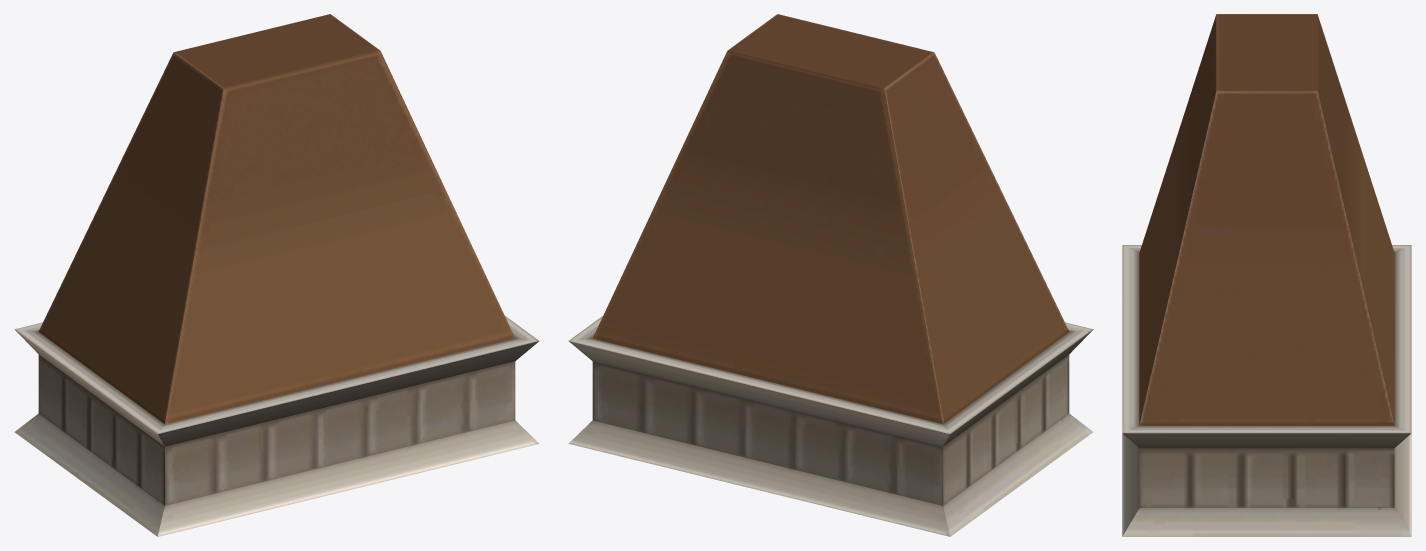
The model's file is furni_0200092.FBX.
The picture shows the model from 3 angles, left to right: view 1: azimuth 30°, elevation 25°; view 2: azimuth 150°, elevation 25°; view 3: azimuth 270°, elevation 25°; orthographic projection.
Visible parts, largest first — view 1: furni_0200092; view 2: furni_0200092; view 3: furni_0200092.
Boxes of the visible parts, x1,y1,x2,y2 form: furni_0200092: (14, 14, 539, 536); furni_0200092: (568, 14, 1093, 536); furni_0200092: (1122, 14, 1411, 536).
Bounding box in the file's own units: 80.17 × 77.5 × 52.11.
1 material, 1 textured.
